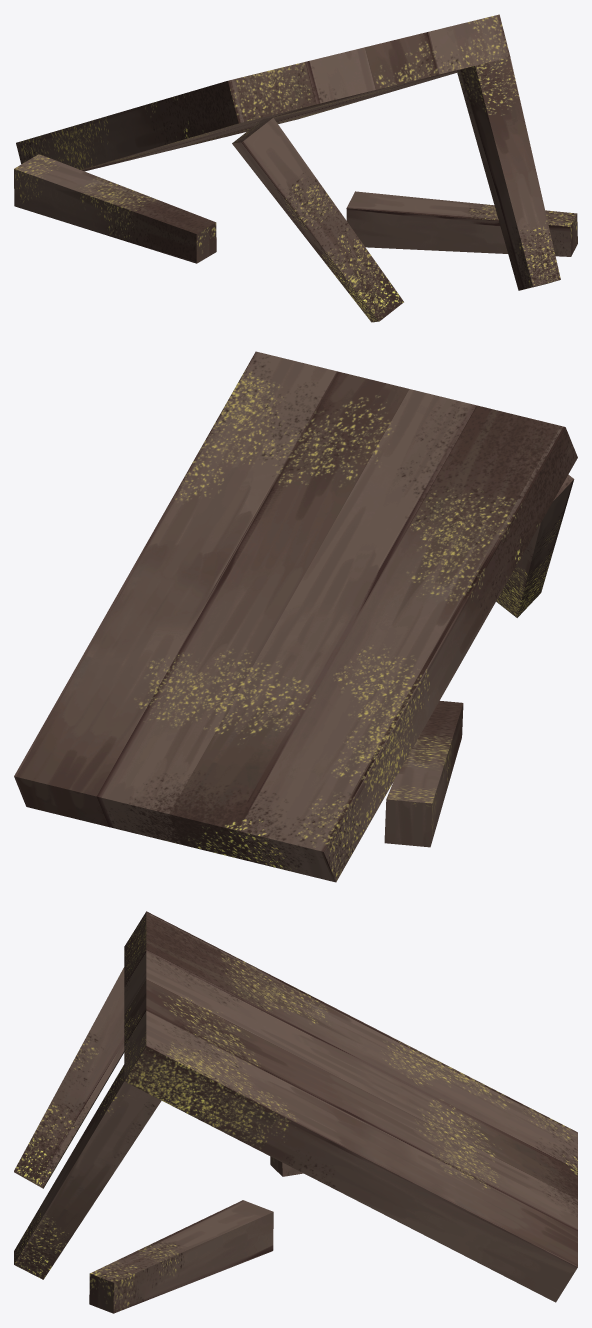
The model's file is Table01.fbx.
The picture shows the model from 3 angles, top to bottom: view 1: azimuth 30°, elevation 25°; view 2: azimuth 150°, elevation 25°; view 3: azimuth 270°, elevation 25°; orthographic projection. The views are drawn at different scales.
Visible parts, largest first — view 1: Table01; view 2: Table01; view 3: Table01.
Boxes of the visible parts, x1,y1,x2,y2 form: Table01: [14, 14, 577, 322]; Table01: [14, 351, 577, 882]; Table01: [14, 911, 577, 1313].
Bounding box in the file's own units: 1.36 × 0.8563 × 1.71.
1 material, 1 textured.
